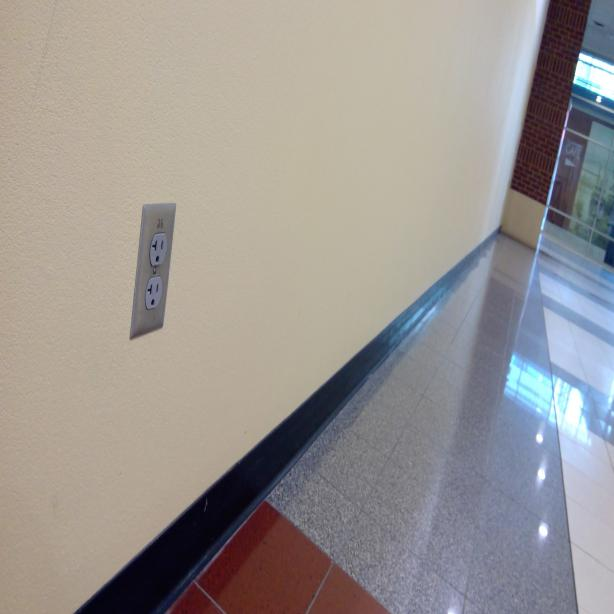typeb: (144, 278, 163, 311), (150, 234, 168, 265)
